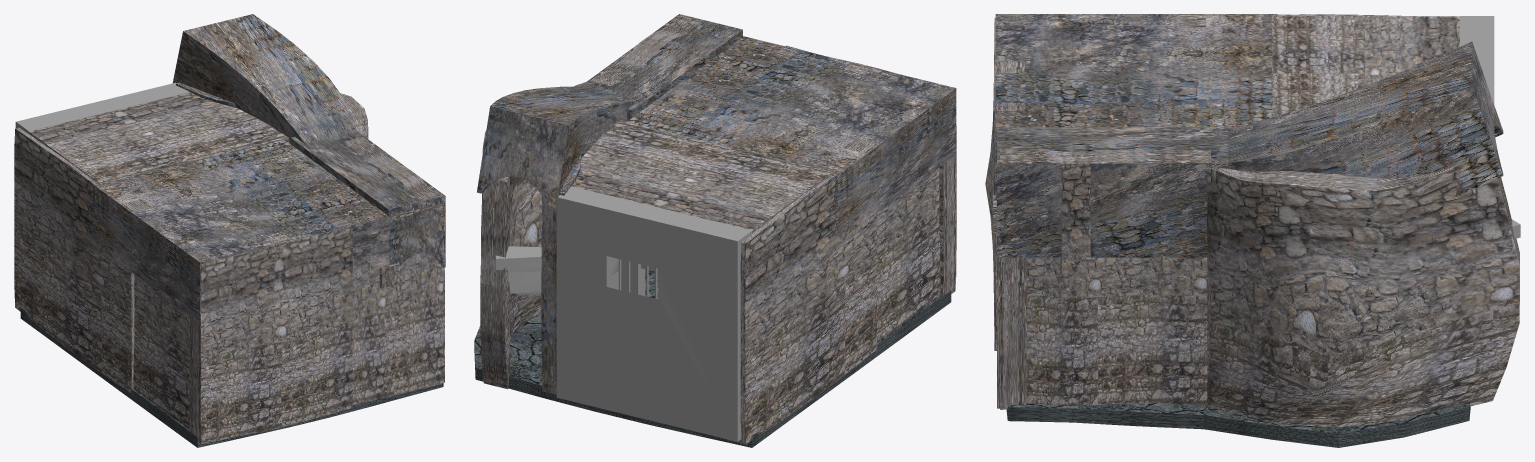
The model's file is Dungeon_FBX_tetures.fbx.
The picture shows the model from 3 angles, left to right: view 1: azimuth 30°, elevation 25°; view 2: azimuth 150°, elevation 25°; view 3: azimuth 270°, elevation 25°; orthographic projection. The views are drawn at different scales.
Parts seen in each view (by area): view 1: wall6, vault2, wall1, vault3, vault1, Floor, wall2, wall4, wall5, beam; view 2: wall2, wall1, vault2, vault3, vault1, wall5, Floor, wall3, wall6, wall4, stairs, muroCanc (+1 smaller); view 3: wall5, vault3, wall4, vault2, vault1, Floor, wall6, wall2, wall1.
Boxes of the visible parts, x1,y1,x2,y2 form: wall6: (189,203,444,443); vault2: (93,139,389,321); wall1: (14,127,222,429); vault3: (173,14,445,267); vault1: (29,92,288,184); Floor: (20,308,443,447); wall2: (15,82,189,133); wall4: (345,136,441,388); wall5: (340,93,368,138); beam: (379,263,400,288); wall2: (556,186,752,441); wall1: (723,139,940,444); vault2: (626,36,956,238); vault3: (477,14,742,211); vault1: (571,120,832,233); wall5: (480,82,585,389); Floor: (474,269,951,447); wall3: (541,127,616,394); wall6: (773,45,956,296); wall4: (589,15,701,86); stairs: (495,246,541,295); muroCanc: (621,259,658,295); wall5: (1207,164,1519,427); vault3: (997,41,1503,257); wall4: (1000,148,1210,409); vault2: (995,14,1277,200); vault1: (1272,16,1459,117); Floor: (1006,401,1470,447); wall6: (985,18,1026,408); wall2: (1460,16,1494,104); wall1: (995,14,1414,29).
Size of the model in its own units: 3955 by 3195 by 4723.
12 materials, 7 textured.
